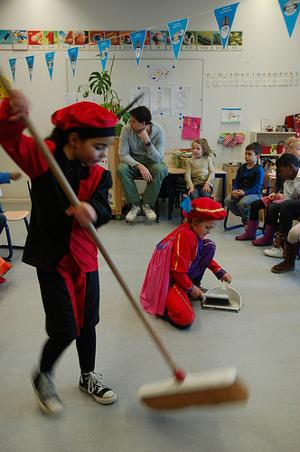person: (1, 89, 122, 417)
